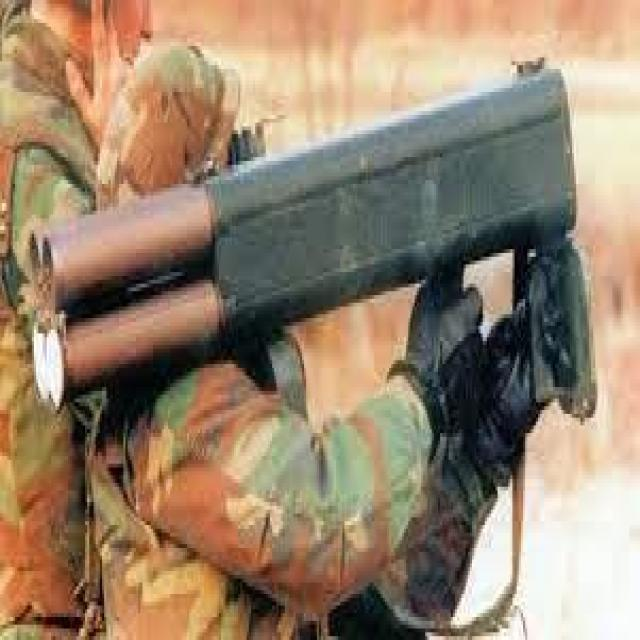bazooka: (14, 31, 604, 423)
